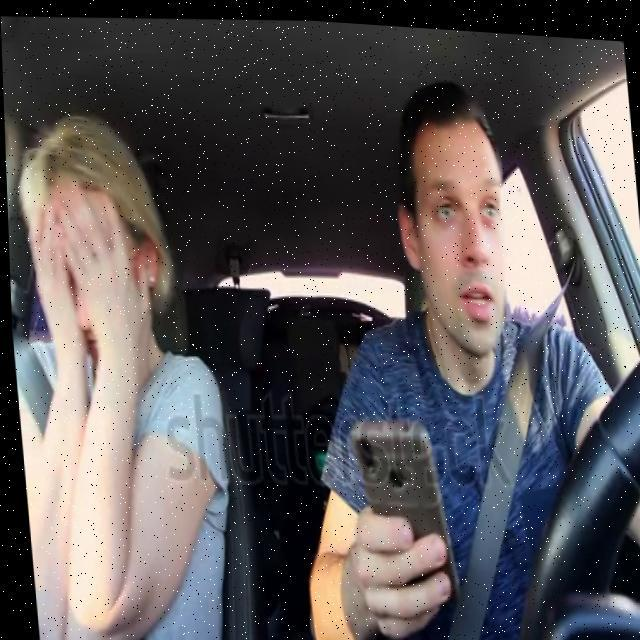PhoneCall: (348, 407, 456, 596)
